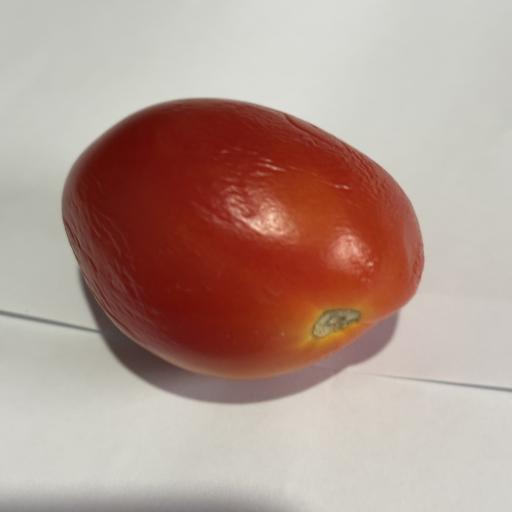spoiled: (62, 99, 423, 378)
